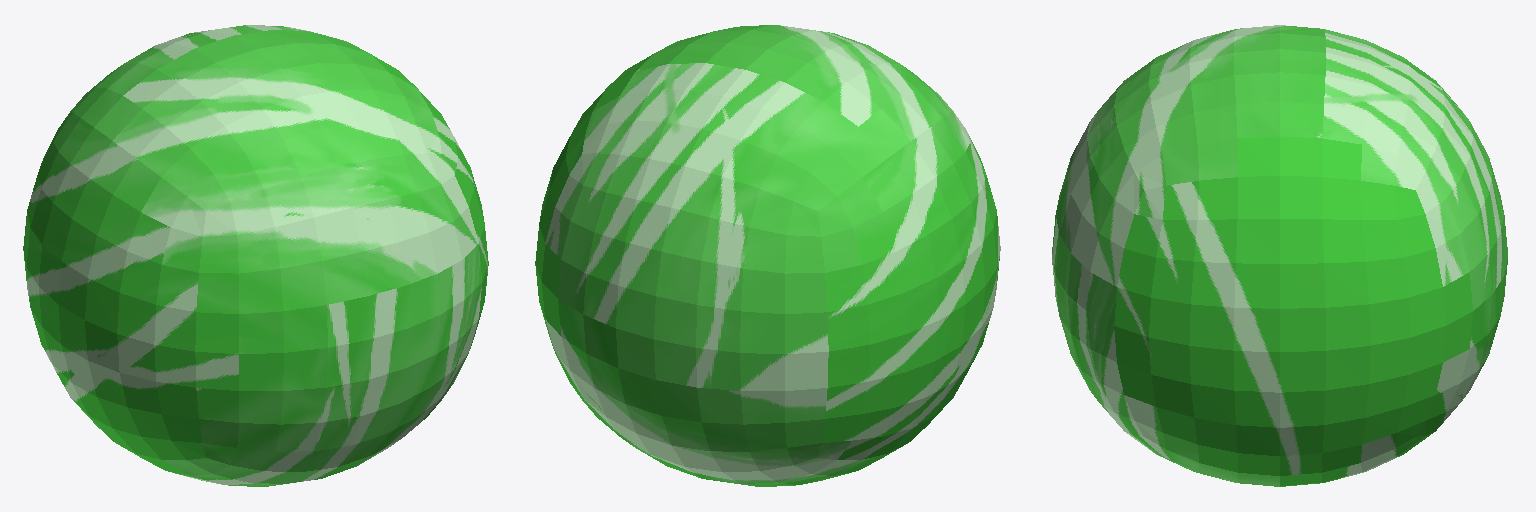
The picture shows the model from 3 angles: view 1: azimuth 30°, elevation 25°; view 2: azimuth 150°, elevation 25°; view 3: azimuth 270°, elevation 25°; orthographic projection.
Parts seen in each view (by area): view 1: Cube; view 2: Cube; view 3: Cube.
Part boxes in pixels (bbox=[...]): Cube: bbox=[23, 25, 488, 486]; Cube: bbox=[535, 25, 1000, 486]; Cube: bbox=[1052, 25, 1507, 486].
Bounding box in the file's own units: 1.68 × 1.68 × 1.68.
Materials: 1 (1 with a texture image).